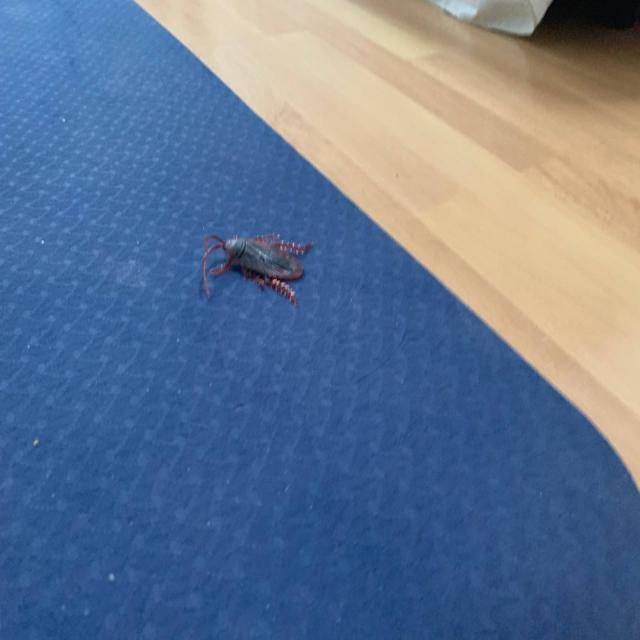Cockroach: (196, 214, 314, 314)
